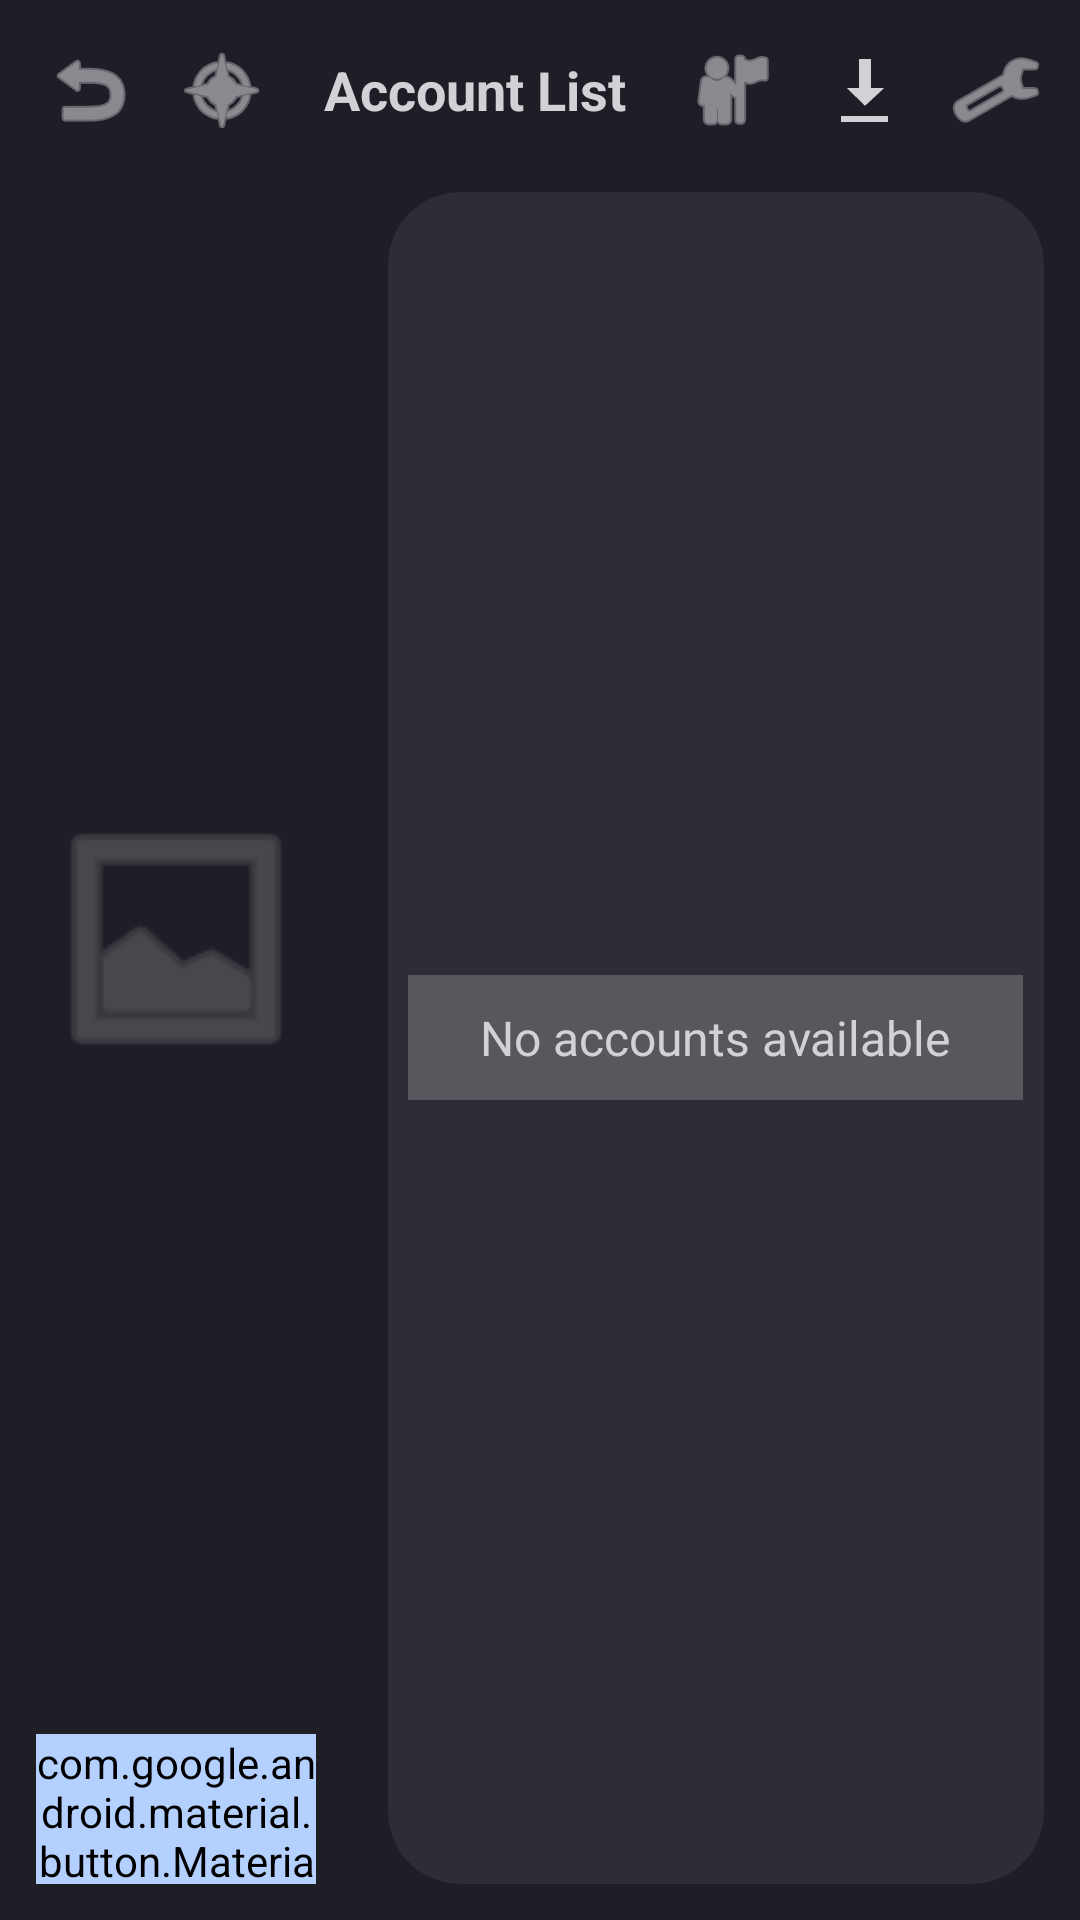

Icons on this 1080x1920 Android screen, each with the point to tap as [x,y]:
download: [864,90]
gallery: [176,939]
preferences: [996,90]
revert: [91,90]
